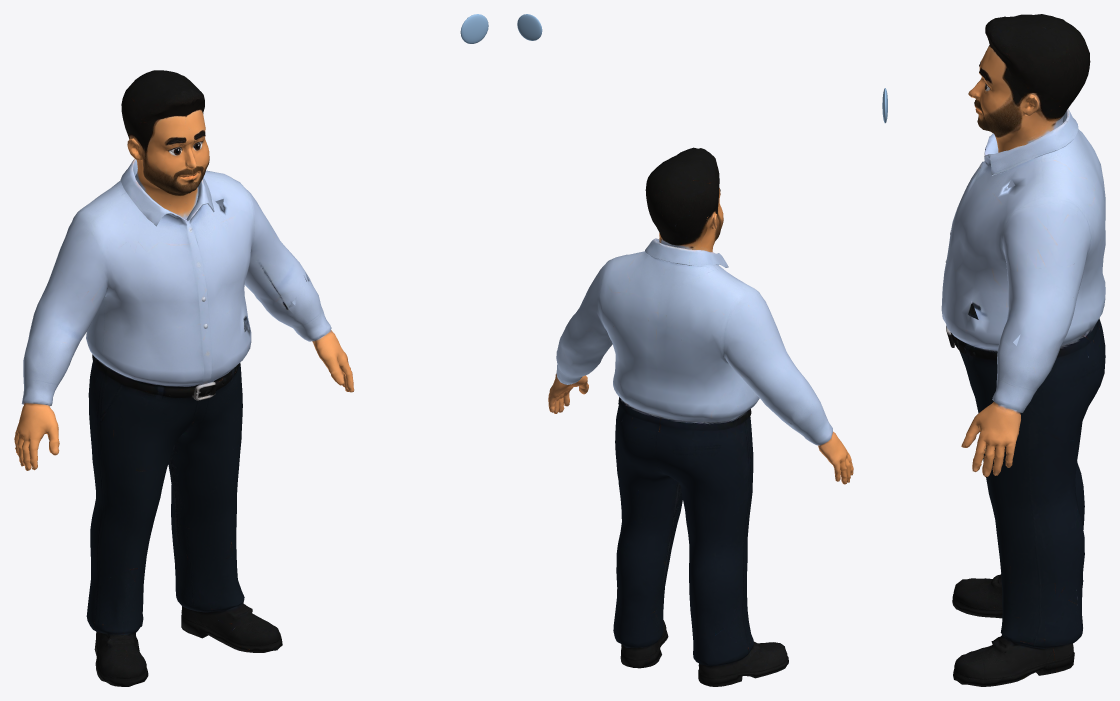
The model's file is AbdullahEkinci_MeshyPro.obj.
3 renders of one model, left to right at view 1: azimuth 30°, elevation 25°; view 2: azimuth 150°, elevation 25°; view 3: azimuth 270°, elevation 25°, orthographic. The views are drawn at different scales.
Visible parts, largest first — view 1: AbdullahEkinci; view 2: AbdullahEkinci; view 3: AbdullahEkinci.
Part boxes in pixels (<box>): AbdullahEkinci: <box>14,14,488,686</box>; AbdullahEkinci: <box>517,14,853,686</box>; AbdullahEkinci: <box>882,14,1105,686</box>.
Size of the model in its own units: 1.28 by 1.8 by 0.5359.
